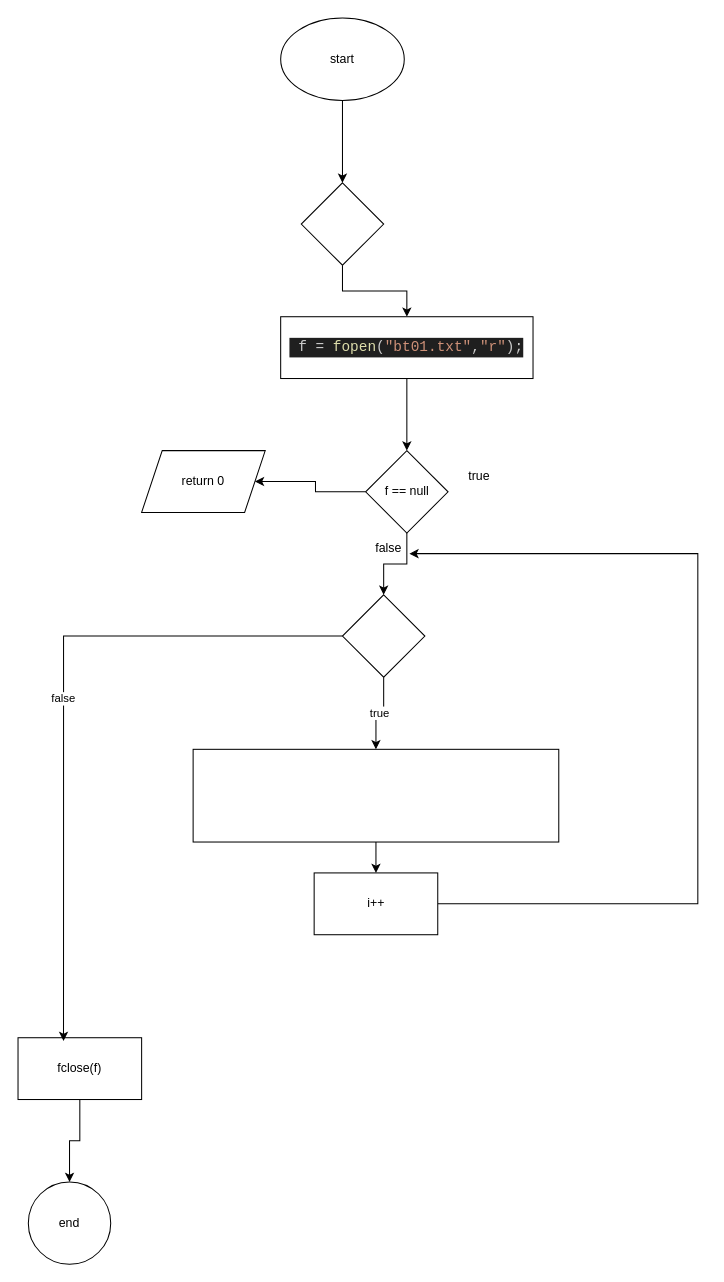
The diagram is 724 pixels wide and 1282 high, and some of its shapes have lost their labels. Each missing label, with the centre of its shape:
gets( x ); fprintf ( f , " %s \n " , x ); }: point 375,795
i<n: point 383,635
input n: point 342,223
